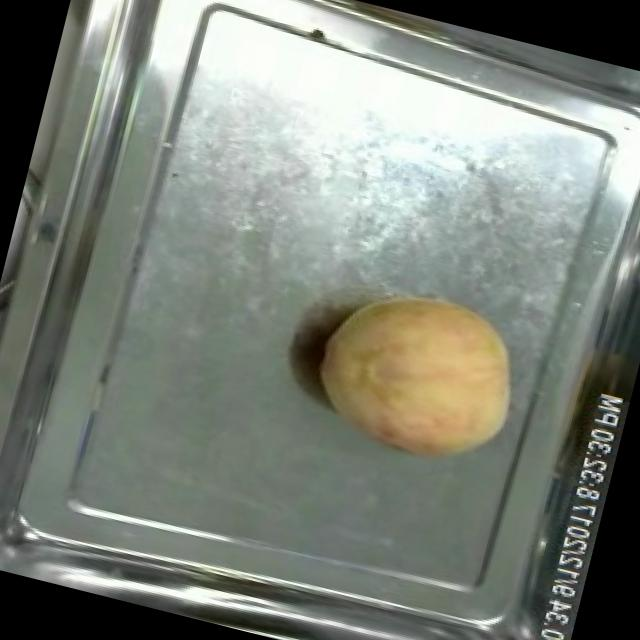Fruit: (294, 260, 544, 484)
